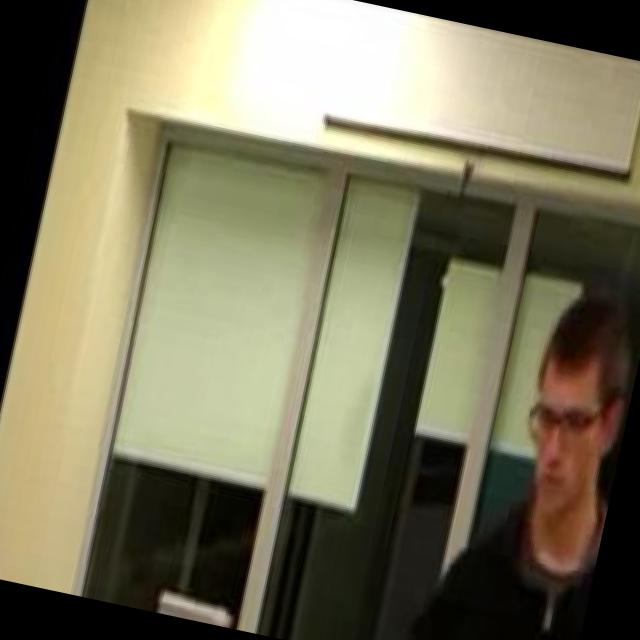Guns: (142, 566, 255, 632)
